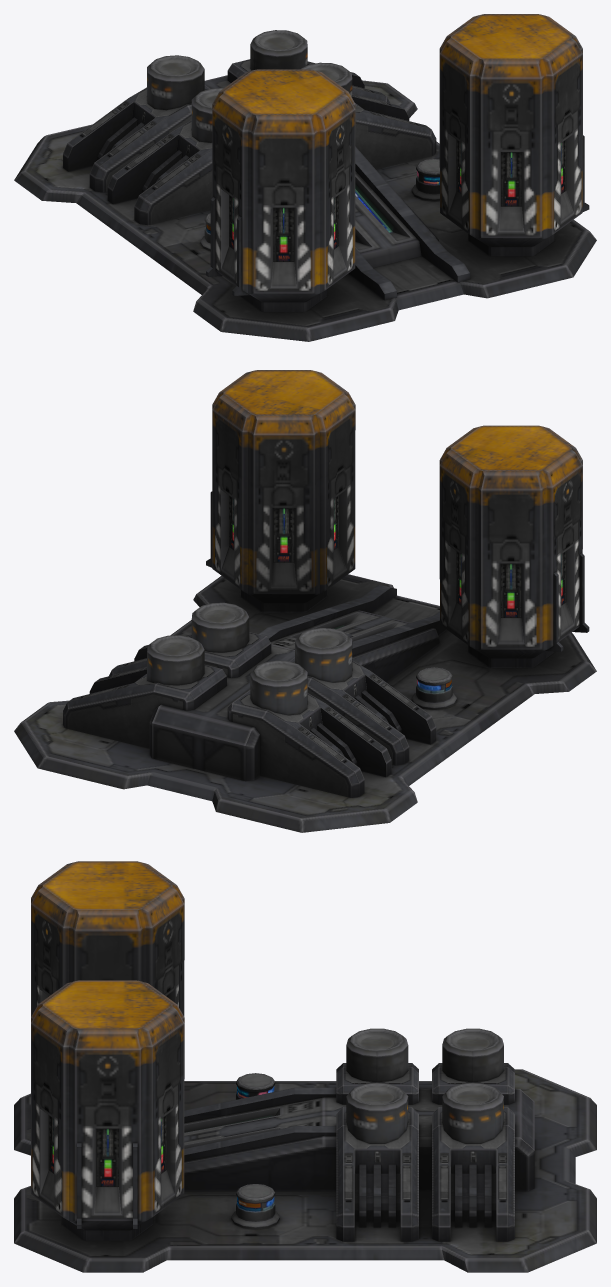
File: Energy_Block.FBX
The picture shows the model from 3 angles, top to bottom: view 1: azimuth 30°, elevation 25°; view 2: azimuth 150°, elevation 25°; view 3: azimuth 270°, elevation 25°; orthographic projection. The views are drawn at different scales.
Visible parts, largest first — view 1: Energy_Block; view 2: Energy_Block; view 3: Energy_Block.
Boxes of the visible parts, x1,y1,x2,y2 form: Energy_Block: (14,14,596,341); Energy_Block: (14,370,596,832); Energy_Block: (14,861,596,1272).
Size of the model in its own units: 1486 by 805 by 1859.
